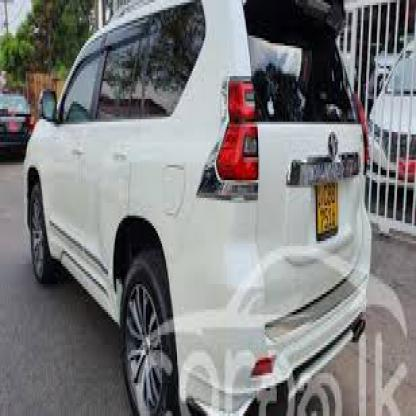jeep: (23, 0, 374, 414)
